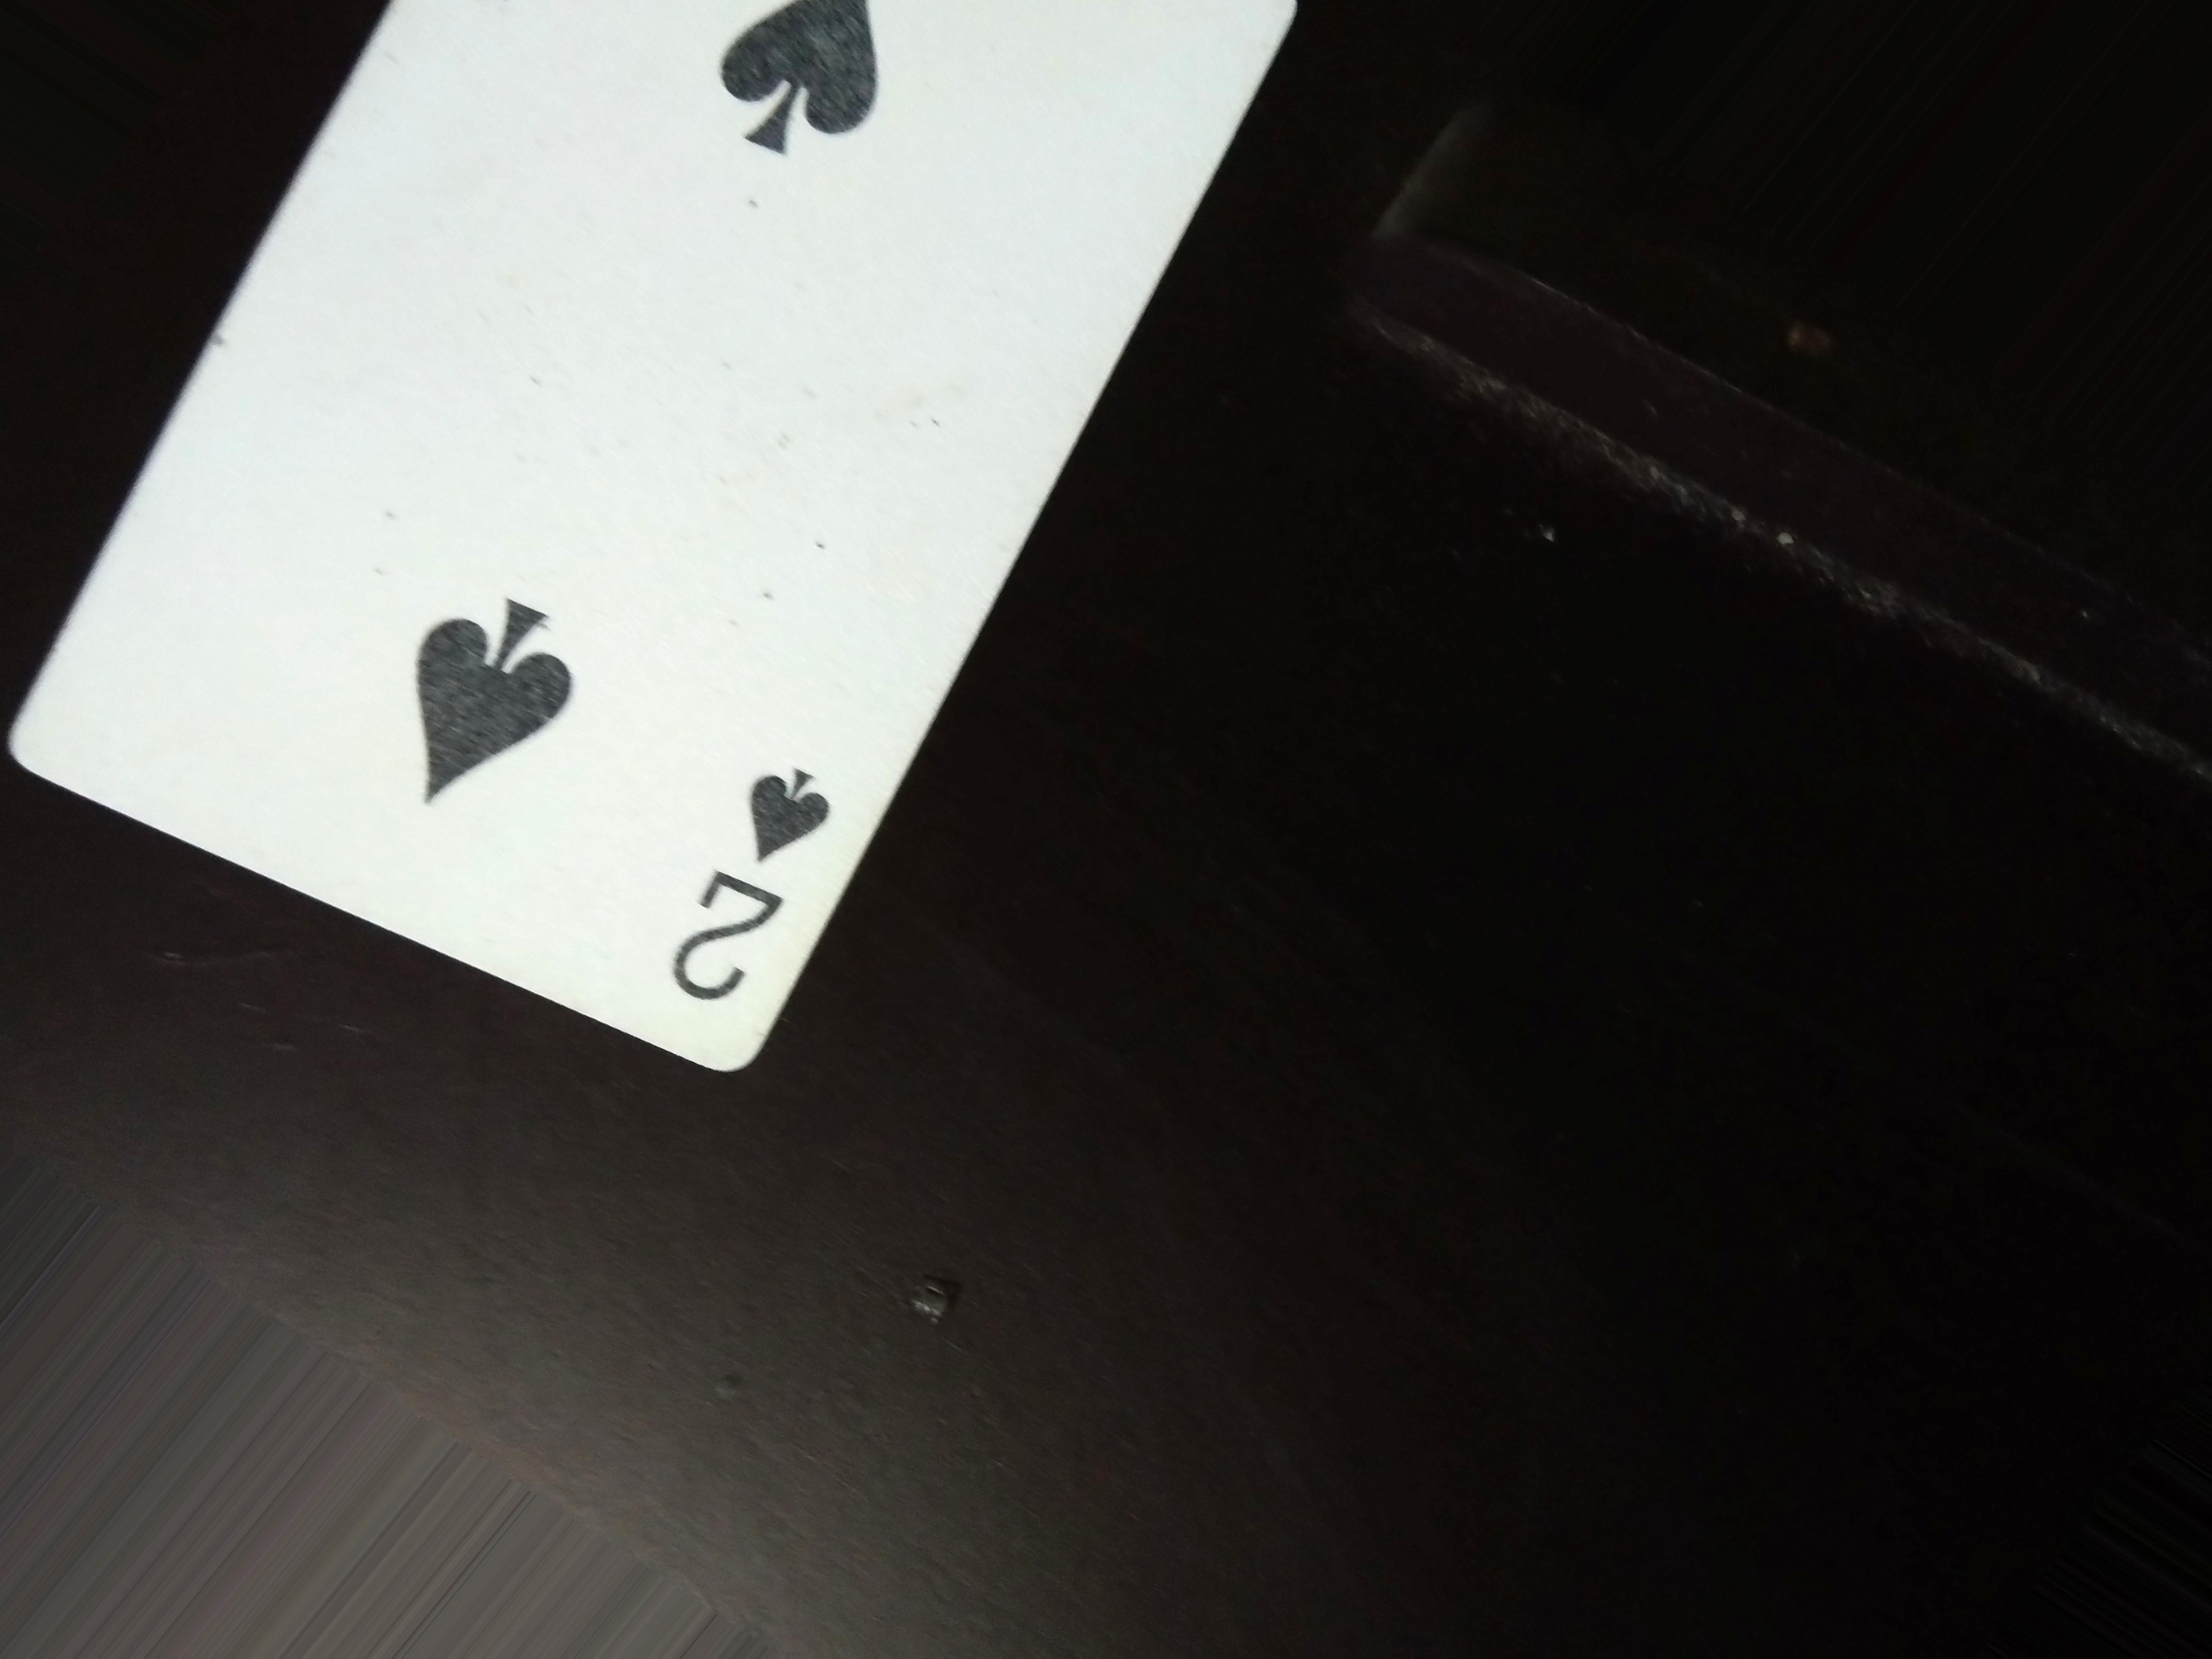2S: (655, 749, 810, 999)
